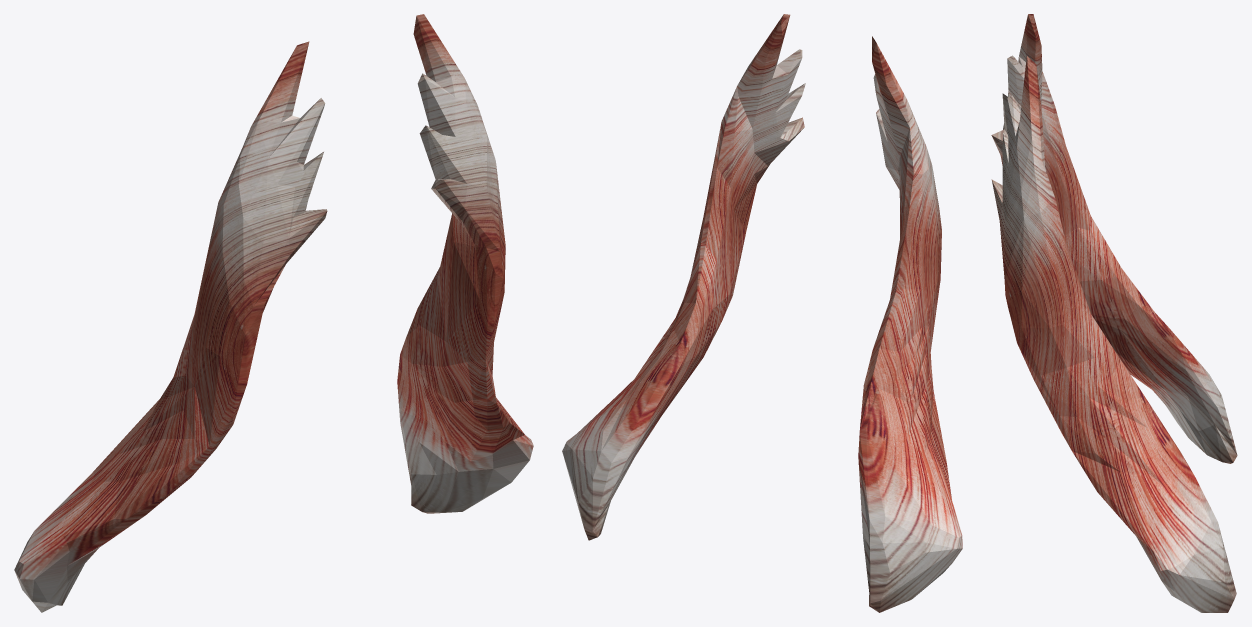
File: Levator_Scapulae.obj
3 renders of one model, left to right at view 1: azimuth 30°, elevation 25°; view 2: azimuth 150°, elevation 25°; view 3: azimuth 270°, elevation 25°, orthographic. The views are drawn at different scales.
Parts seen in each view (by area): view 1: Musculos_Cabeza_1:Levator_Scapulae1; view 2: Musculos_Cabeza_1:Levator_Scapulae1; view 3: Musculos_Cabeza_1:Levator_Scapulae1.
Part boxes in pixels (x1,y1,x2,y2): Musculos_Cabeza_1:Levator_Scapulae1: [14, 14, 533, 612]; Musculos_Cabeza_1:Levator_Scapulae1: [562, 14, 962, 612]; Musculos_Cabeza_1:Levator_Scapulae1: [991, 14, 1237, 612].
Bounding box in the file's own units: 0.667 × 0.7755 × 0.3436.
Materials: 1 (1 with a texture image).
